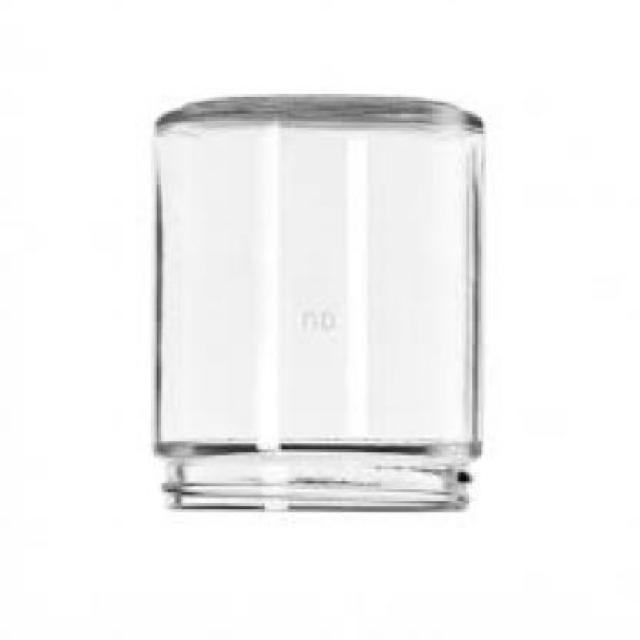GLASS: (154, 102, 486, 512)
